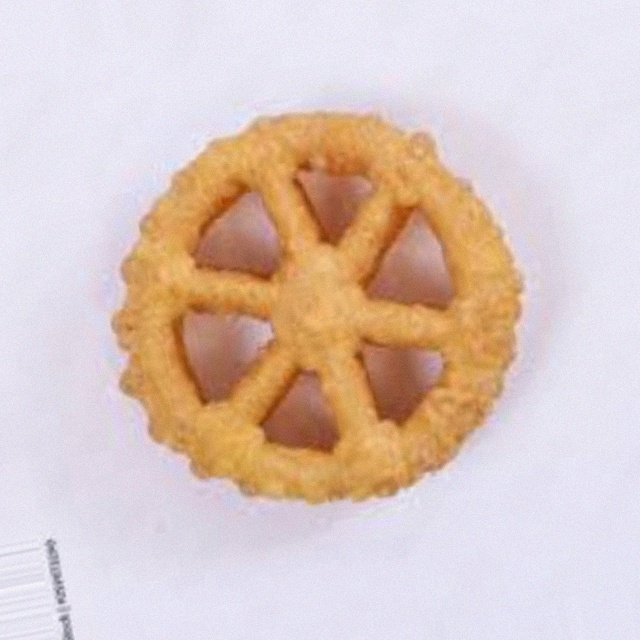Kokis: (125, 102, 515, 538)
